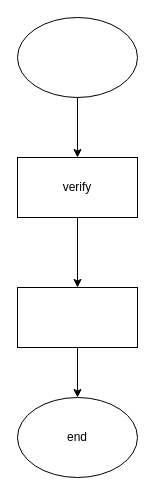
This 155x495 diagram has some shape labels left out. Here are the shapes that lost their labels. From the top down, the centre of each, then its label:
point (77, 57): start
point (77, 317): act
